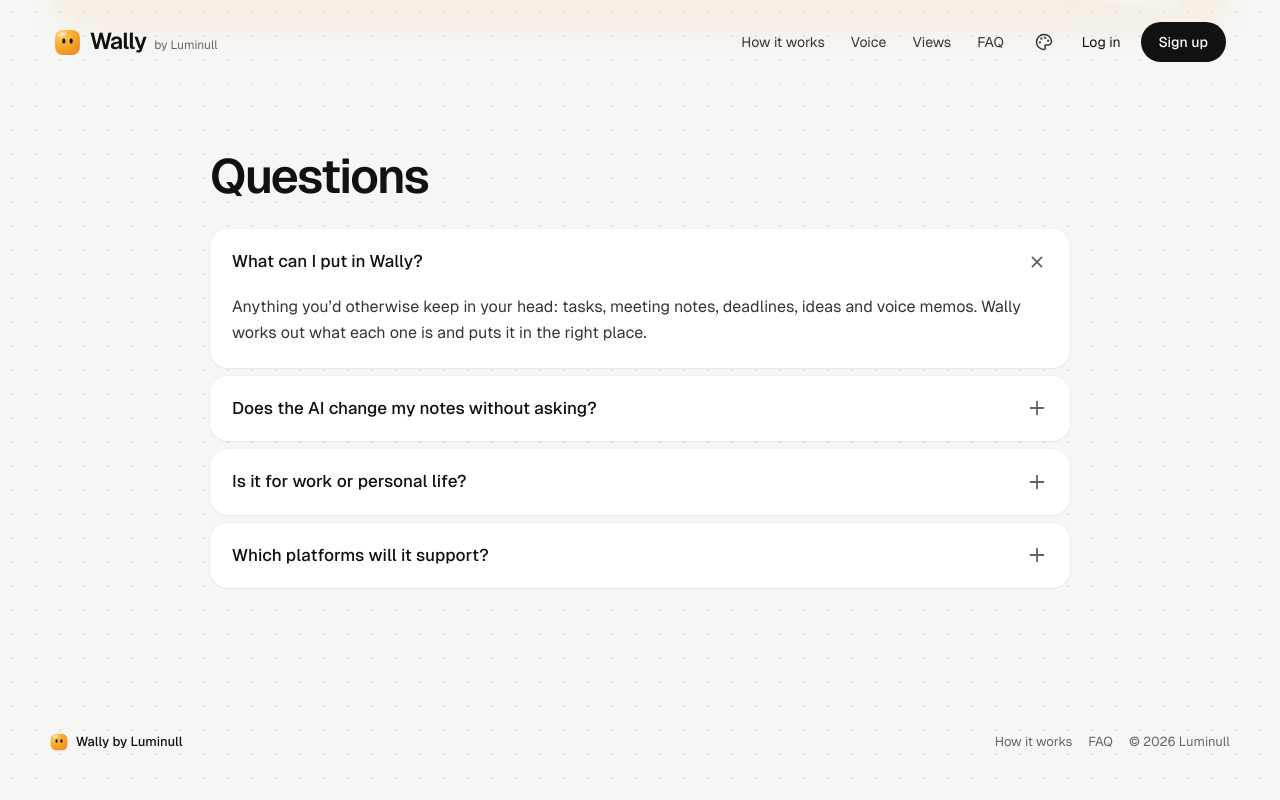
it: opens and closes the reference FAQ answers accessibly
The image size is (1280, 800).
(page scrolled)
Click the button "Does the AI change my notes without asking?" at (414, 408), box [210, 376, 1070, 441]
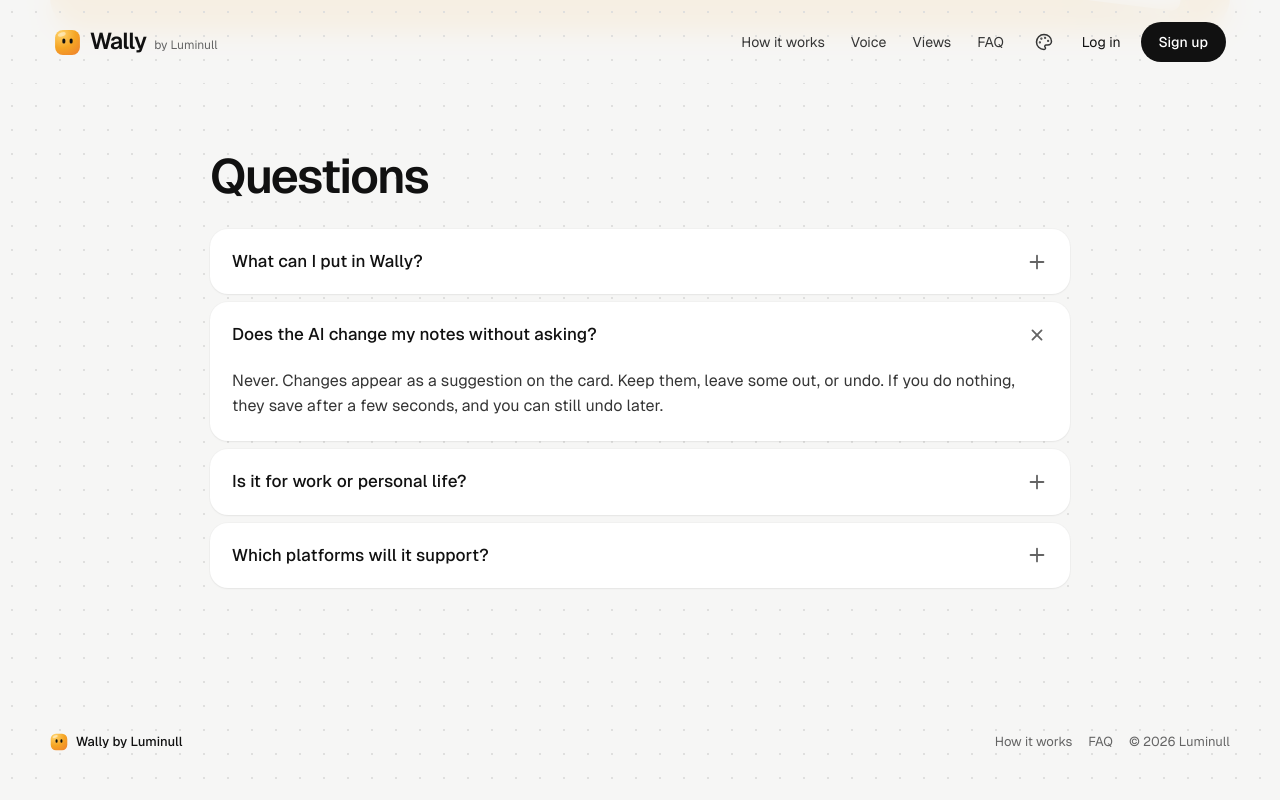
Check: the button "Does the AI change my notes without asking?" is expanded
Check: the text "Changes appear as a suggestion on the card" is shown, box [232, 371, 1015, 416]
Click the button "Does the AI change my notes without asking?" at (414, 334), box [210, 302, 1070, 368]
(page scrolled)
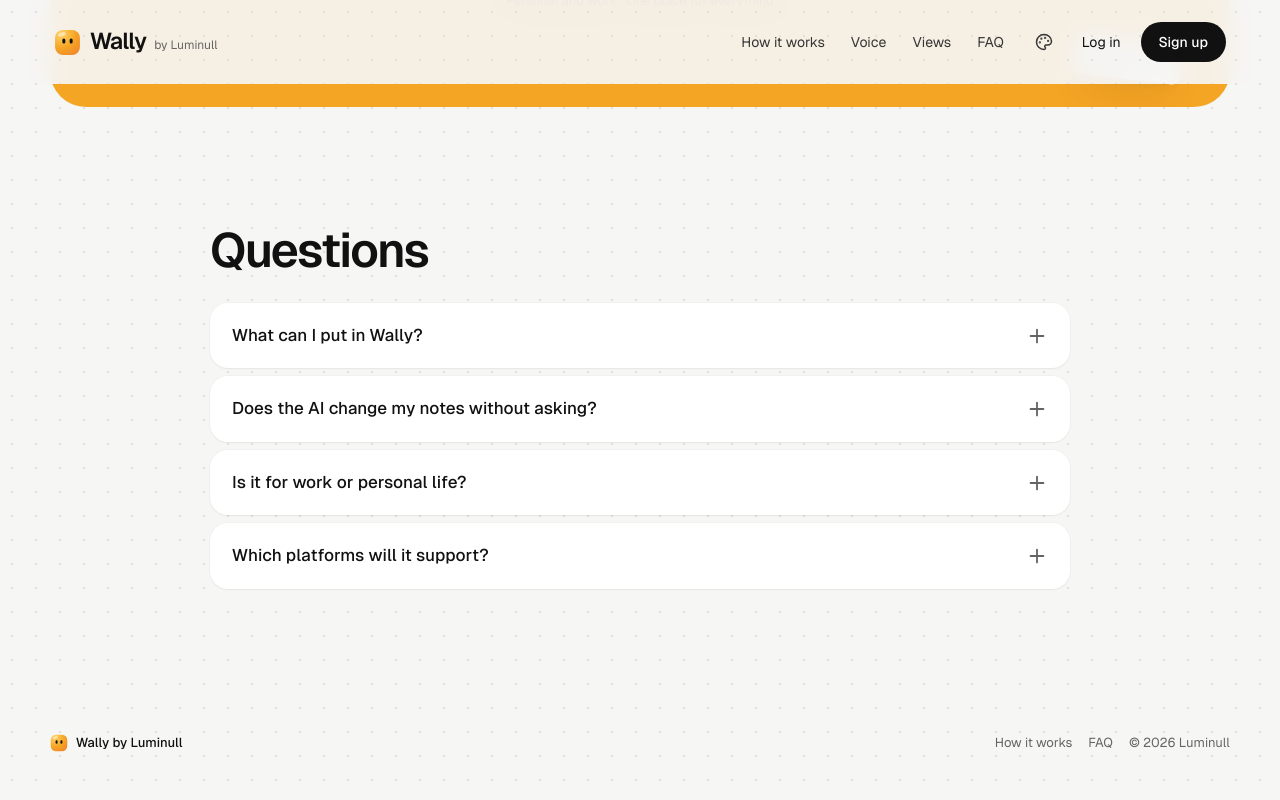
Check: the button "Does the AI change my notes without asking?" is collapsed, box [210, 376, 1070, 442]
